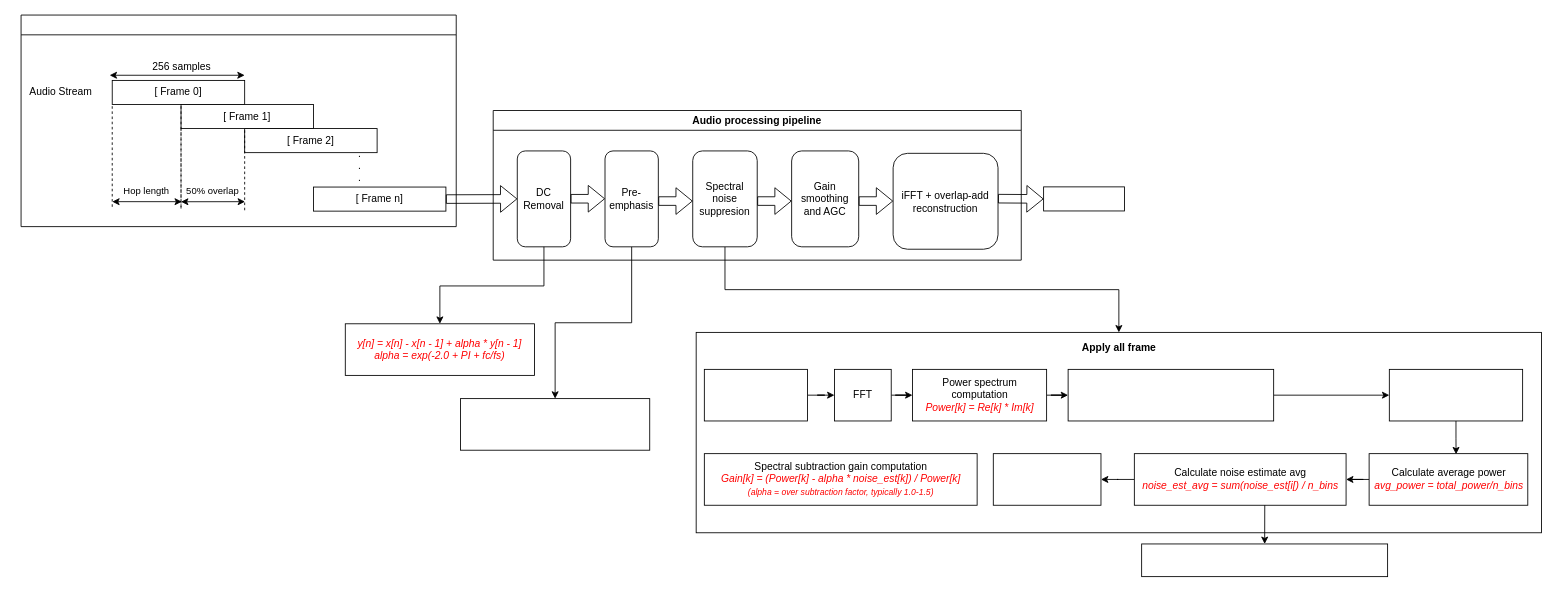
Image size: 1557x592. Some labels were removed from this diagram. Each missing label, with the box of its shape:
[out frame n]: (1043, 186, 1124, 211)
Accumulate power for frame-energy estimation total_power += Power[k]: (1388, 369, 1523, 421)
Adaptive noise estimation update (TBD): (992, 453, 1101, 505)
Apply Hann window: (703, 369, 808, 421)
Frame-based processing: (20, 14, 456, 227)
noise_est = (some function need to be determined): (1141, 543, 1388, 577)
Track minimum power min_pow[k] = min(min_pow[k], Power[k]): (1067, 369, 1274, 421)
y[n] = x[n] - alpha * x[n - 1] alpha = (depends on application): (460, 398, 650, 450)
